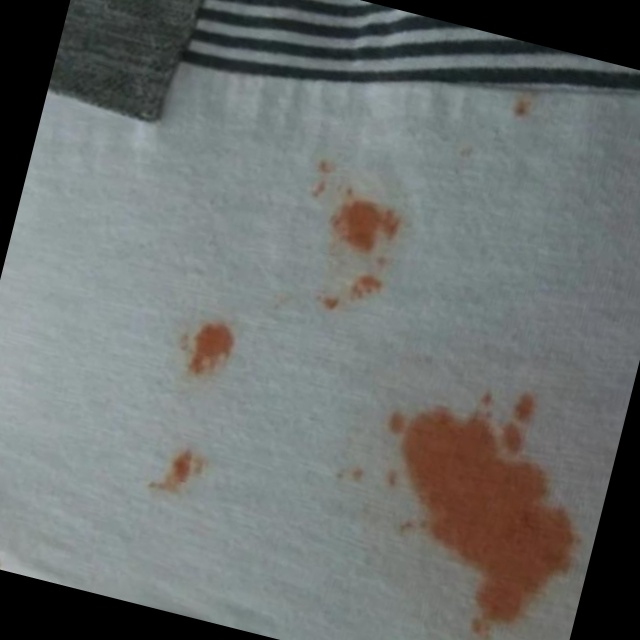kimchi: (292, 350, 618, 640), (270, 151, 443, 332), (149, 284, 256, 396), (140, 425, 217, 519), (487, 87, 547, 136), (443, 132, 494, 172)
